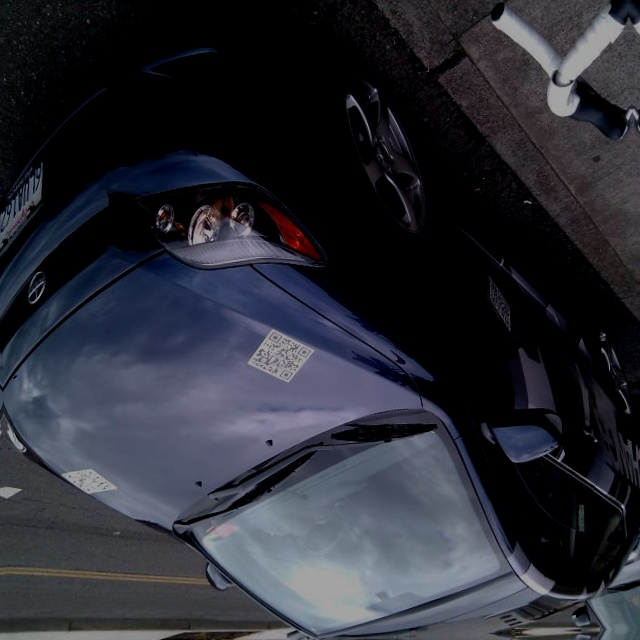qr-code: (249, 330, 313, 382), (64, 470, 114, 494), (490, 277, 510, 330)
